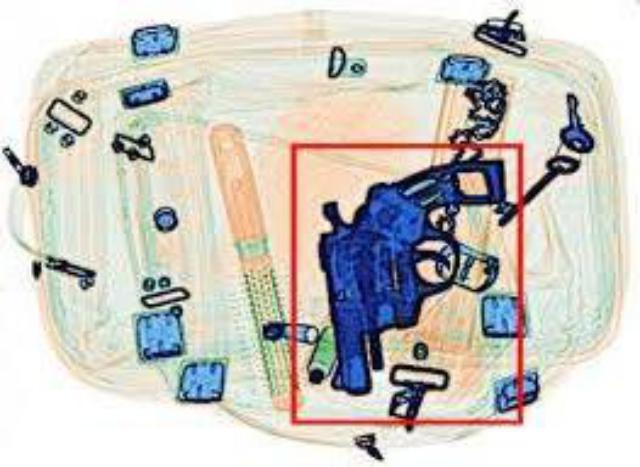Gun: (312, 152, 504, 395)
